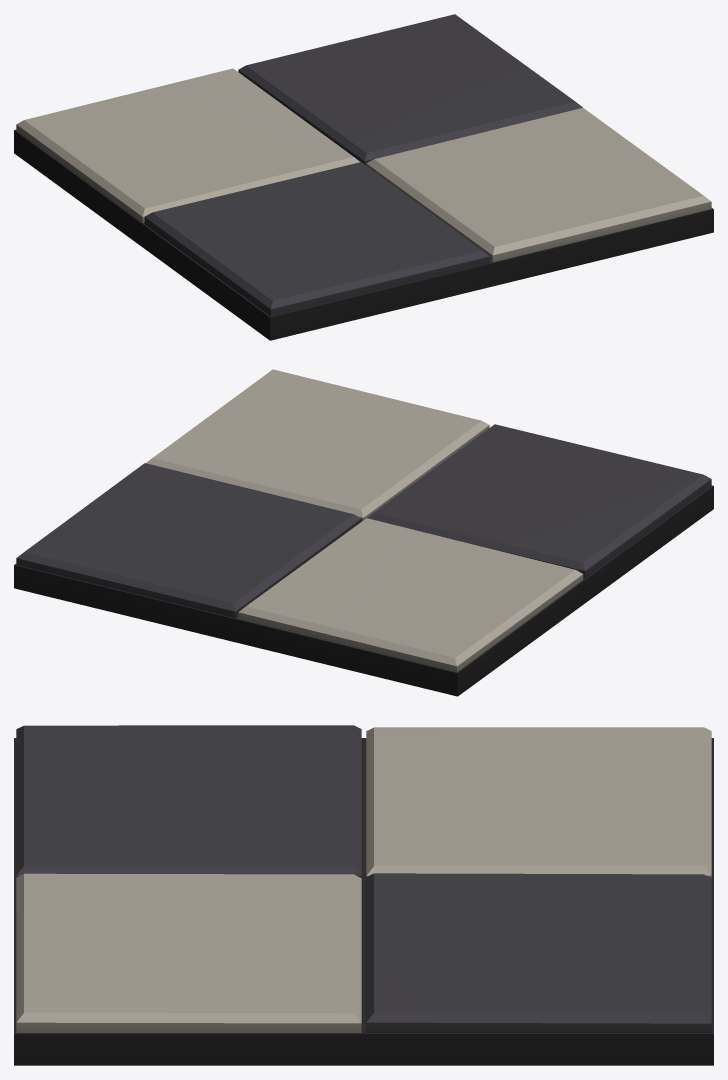
File: floor_checker_small_B.glb
3 renders of one model, top to bottom at view 1: azimuth 30°, elevation 25°; view 2: azimuth 150°, elevation 25°; view 3: azimuth 270°, elevation 25°, orthographic. The views are drawn at different scales.
Parts seen in each view (by area): view 1: Item; view 2: Item; view 3: Item.
Part boxes in pixels (<box>): Item: <box>14,14,713,340</box>; Item: <box>14,369,713,696</box>; Item: <box>14,725,713,1065</box>.
Bounding box in the file's own units: 2 × 0.1544 × 2.
2 materials, 2 textured.
